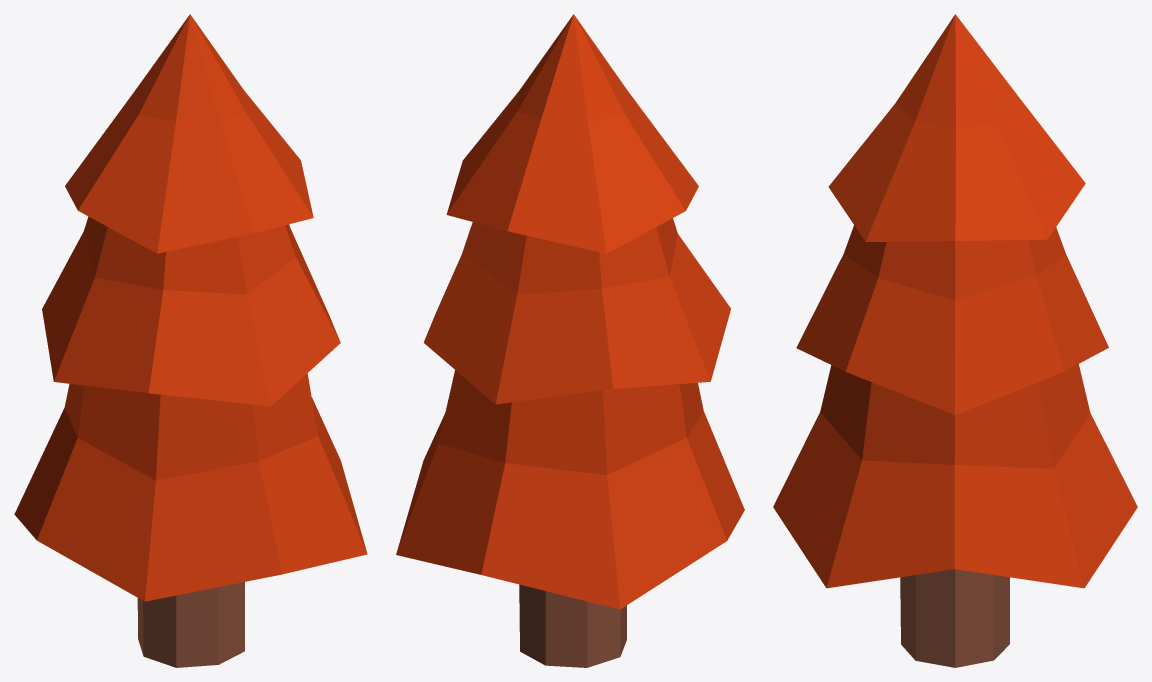
The model's file is TreeRed.obj.
The picture shows the model from 3 angles, left to right: view 1: azimuth 30°, elevation 25°; view 2: azimuth 150°, elevation 25°; view 3: azimuth 270°, elevation 25°; orthographic projection.
Visible parts, largest first — view 1: Tree_01_summer_red; view 2: Tree_01_summer_red; view 3: Tree_01_summer_red.
Part boxes in pixels (<box>): Tree_01_summer_red: <box>14,14,367,667</box>; Tree_01_summer_red: <box>396,14,744,667</box>; Tree_01_summer_red: <box>773,14,1137,667</box>.
Bounding box in the file's own units: 0.8322 × 1.65 × 0.8678.
